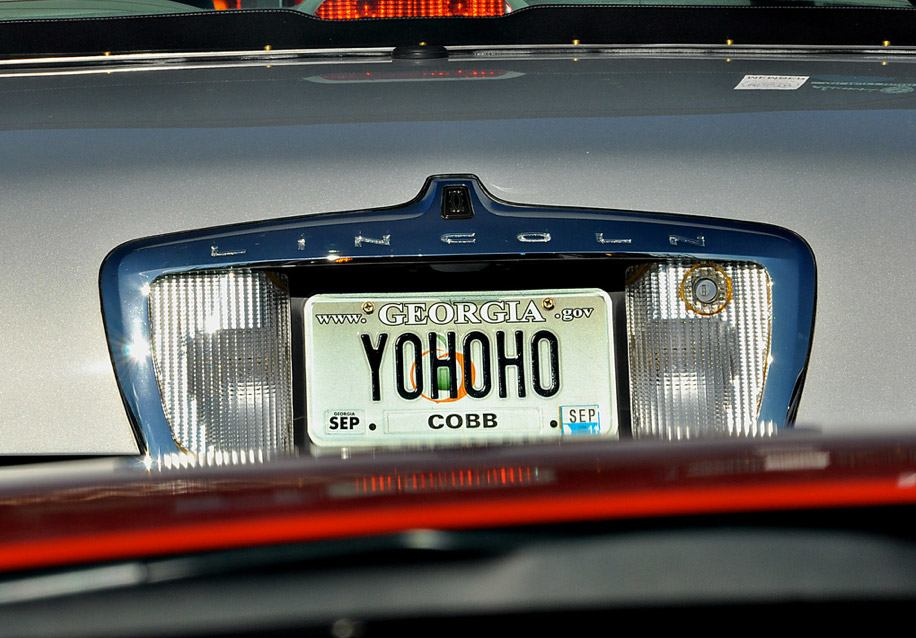license plate: (298, 287, 621, 448)
